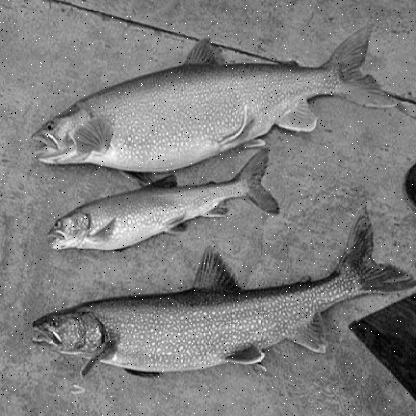fish: (27, 205, 409, 380), (33, 22, 400, 184), (46, 148, 282, 254)
